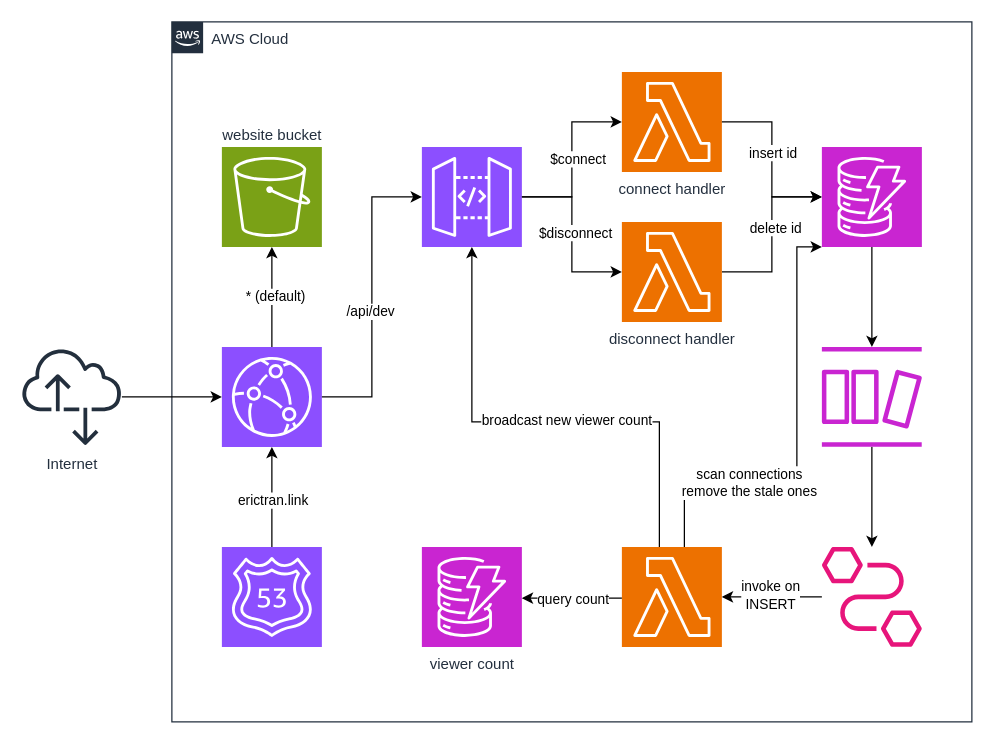
The diagram is 994 pixels wide and 744 high, and some of its shapes have lost their labels. Here are the shapes that lost their labels. From the top down, the centre of each, then its label:
point (471, 196): websocket api
point (871, 196): connection ids
point (671, 596): update and broadcast handler
